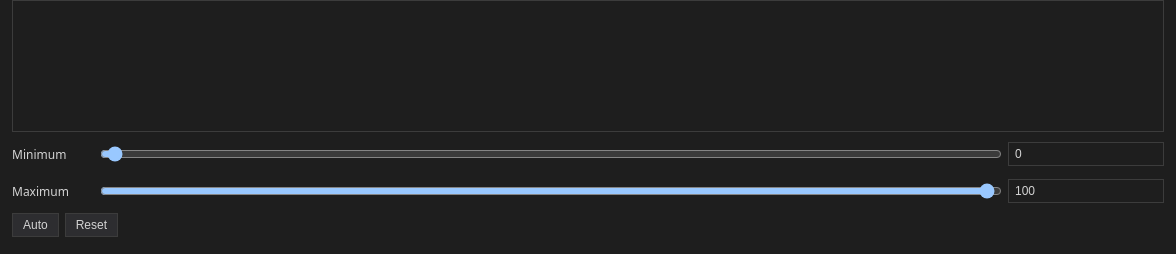
Test: DataSetForm histogram range › defaults to a generic interval presentation
Expected: the number of sliders is 2, [100,141,1002,167]; [100,178,1002,204]
Expected: the picture named "Histogram and selected range" is shown, [12,0,1164,132]
Click the button "Auto": {"x": 35, "y": 225} [12,213,59,237]
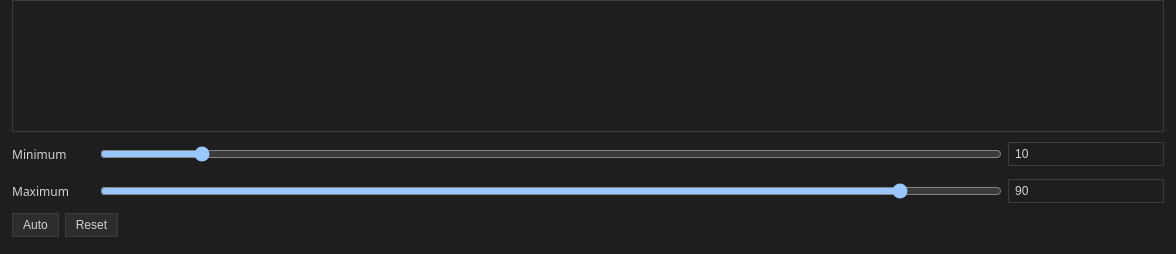
Now the number field named "Minimum" holds "10", box [1008,142,1164,166]
